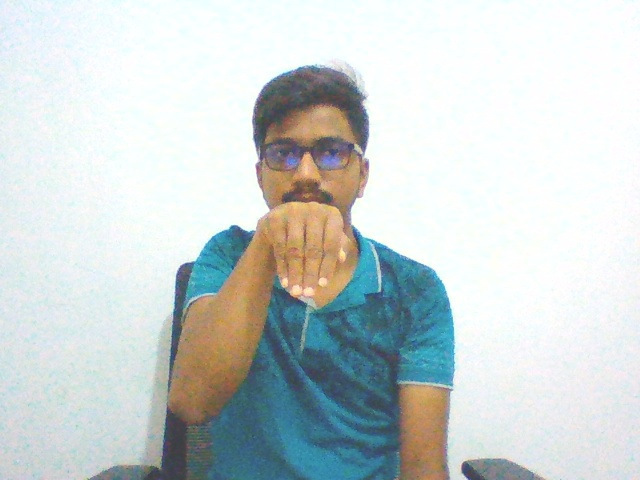Squirrel: (252, 192, 358, 305)
